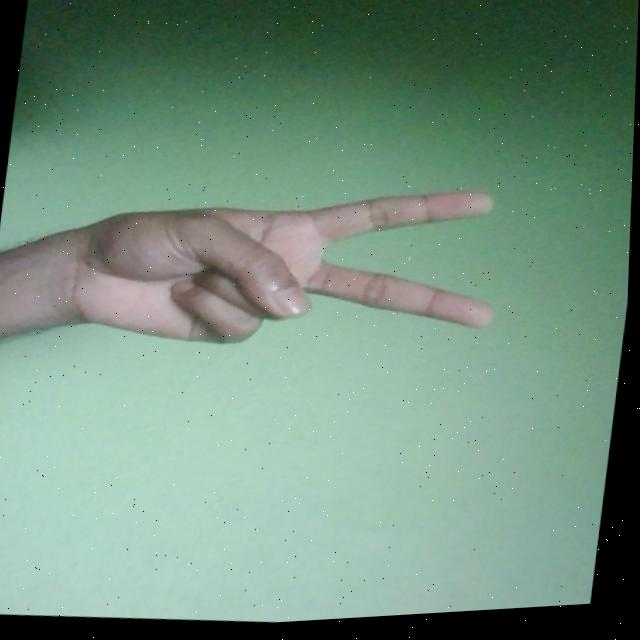Peace: (50, 159, 512, 379)
